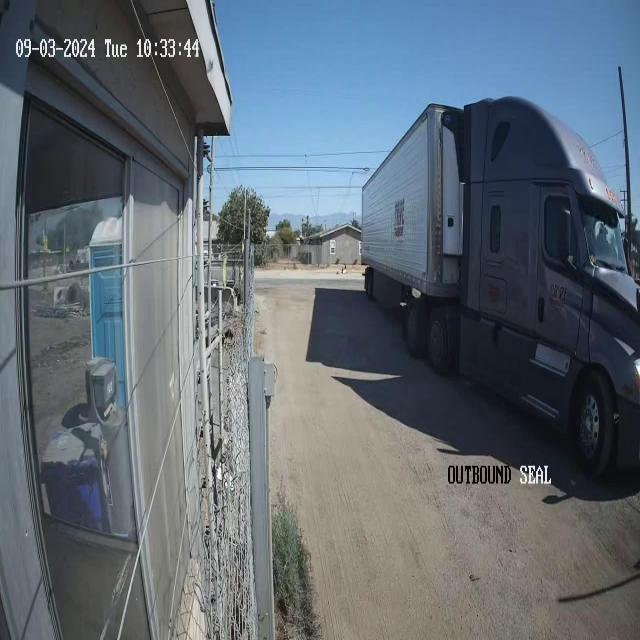TRUCK_IN: (360, 94, 639, 482)
